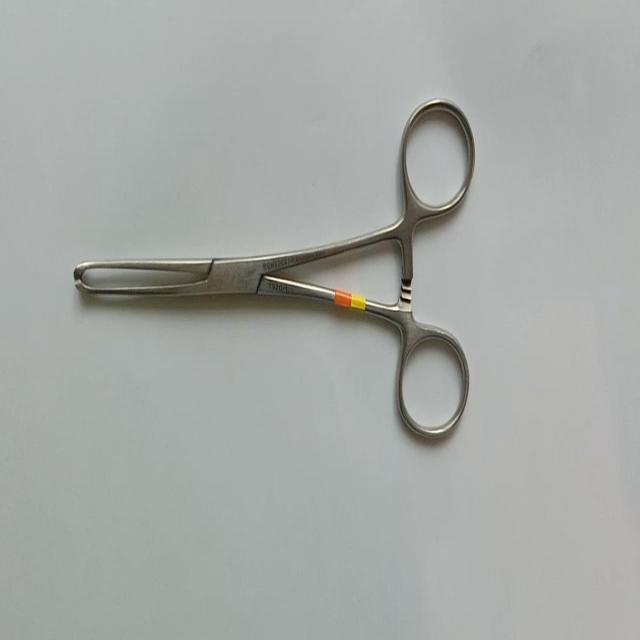AllisForcep: (74, 93, 478, 443)
